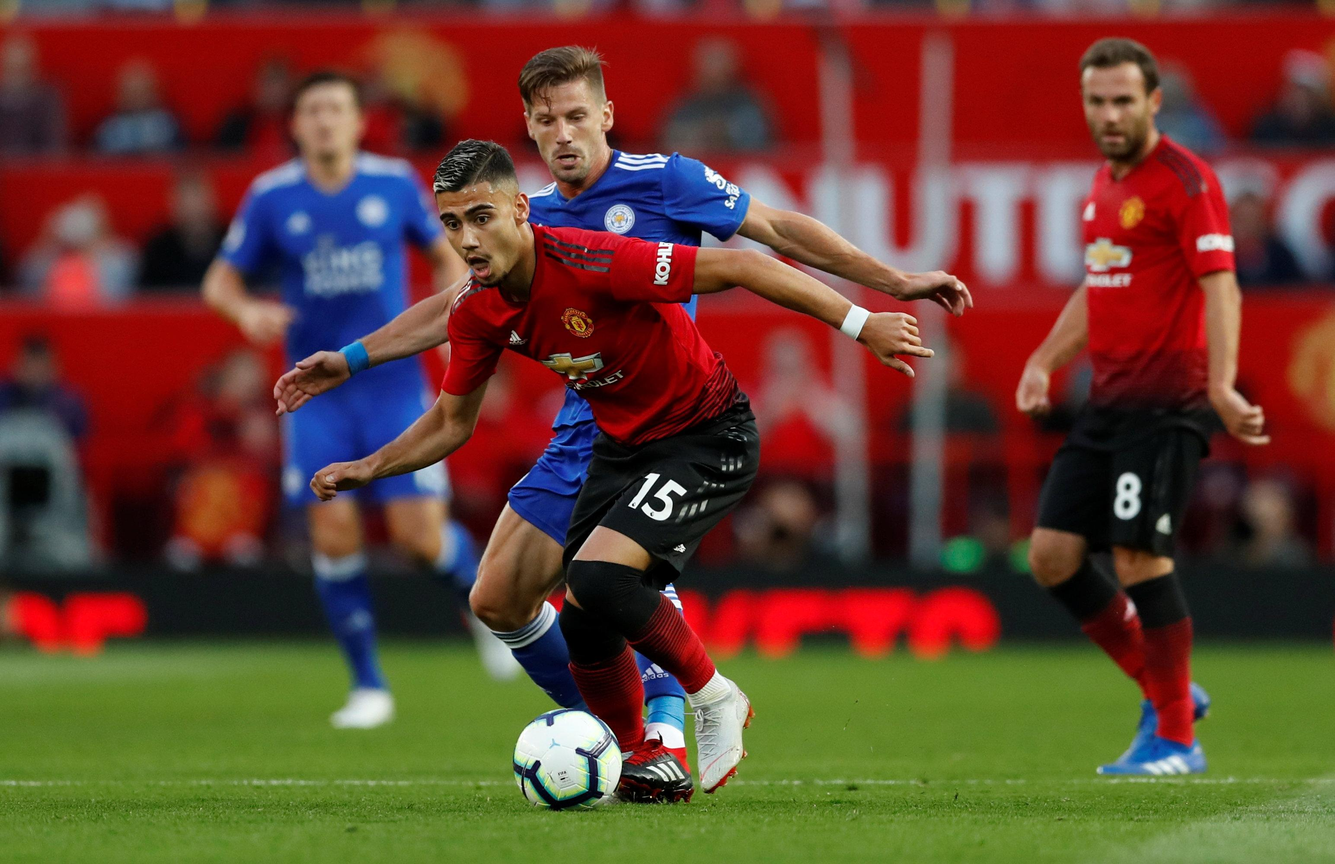ballon_football: (512, 706, 624, 813)
